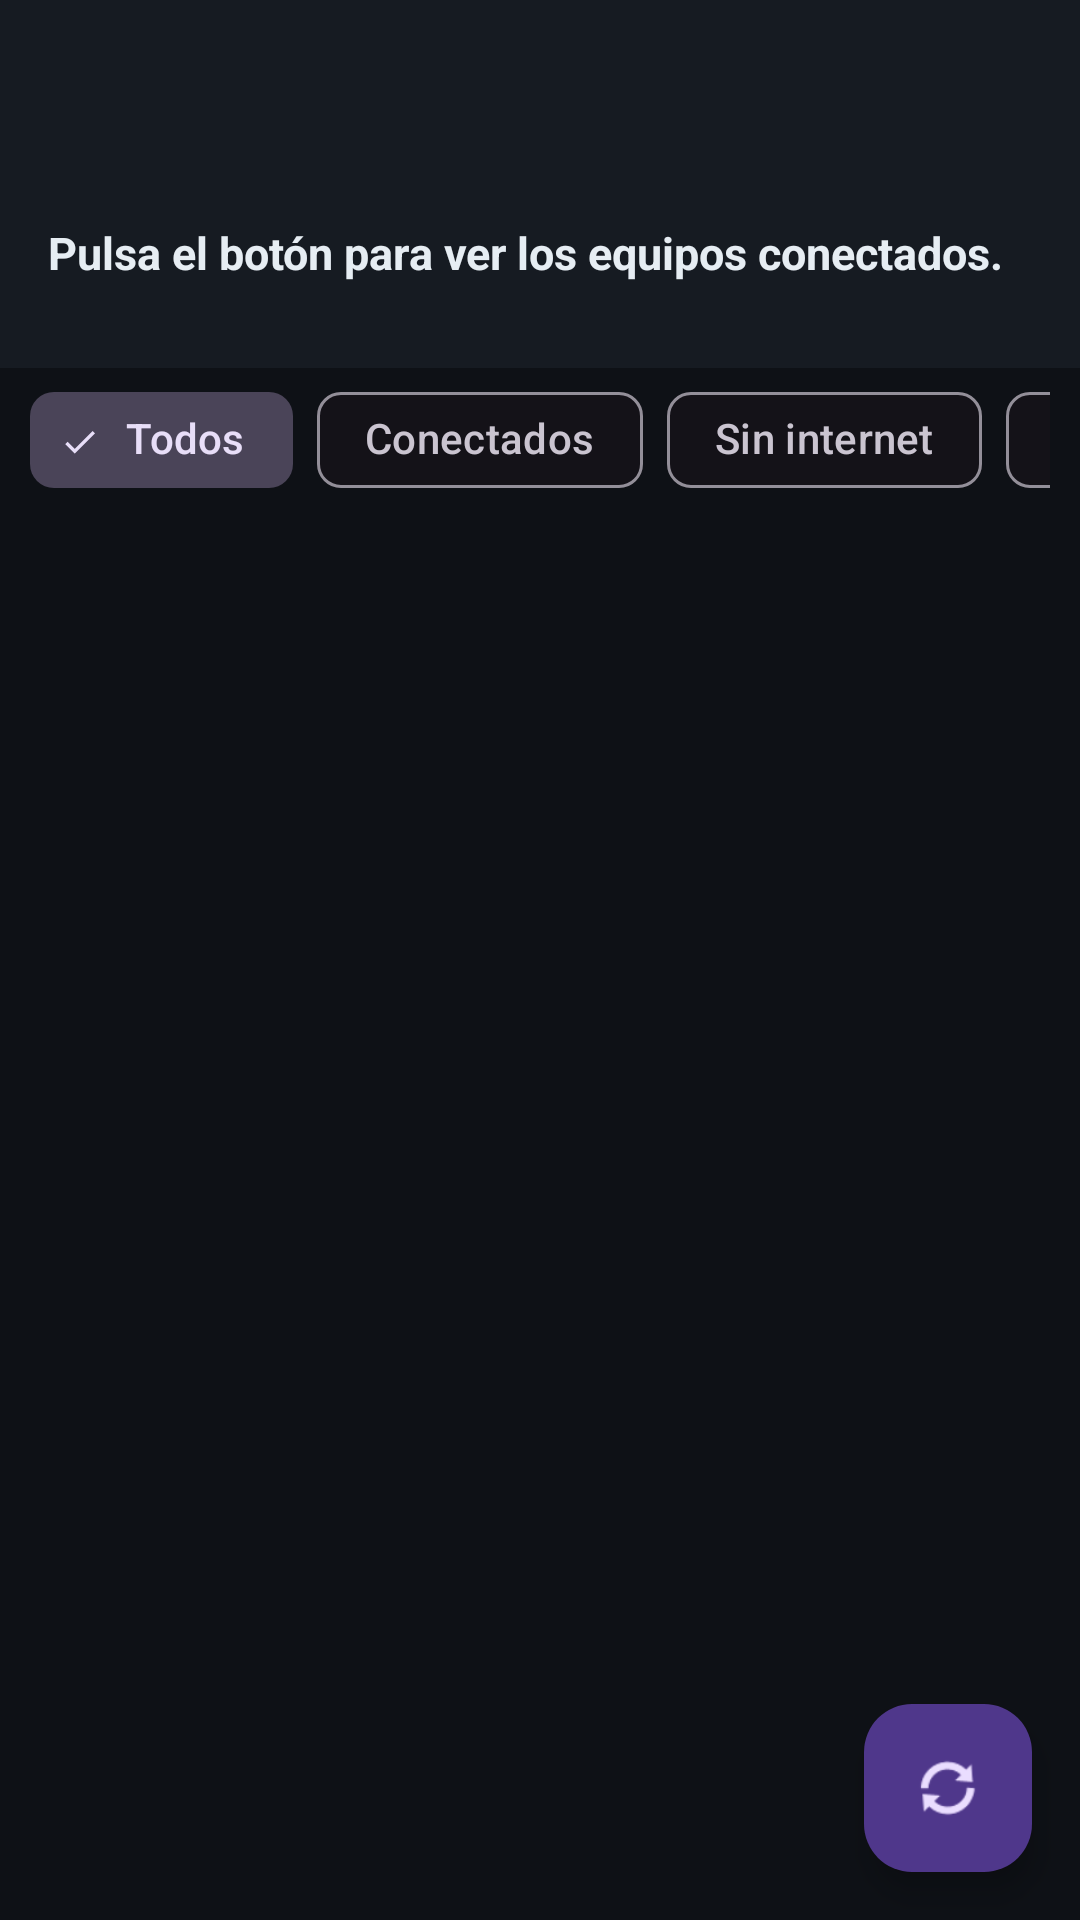

Icon bounding boxes for this 1080px x 1920px phone screenshot, format {"x1": x1, "y1": y1, "x2": x2, "y2": y2}:
Actualizar: {"x1": 864, "y1": 1704, "x2": 1032, "y2": 1872}
